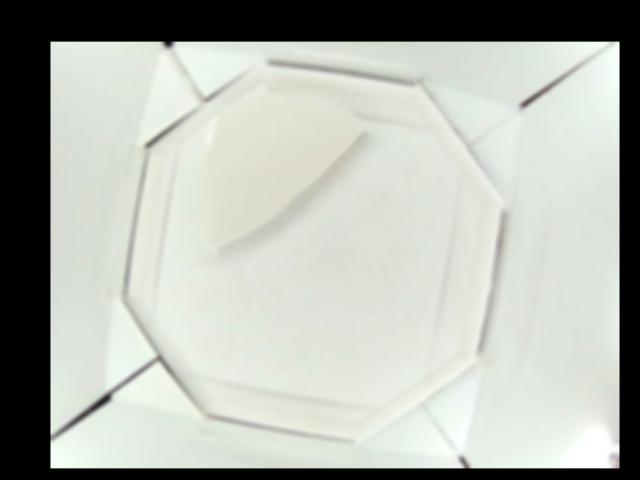China: (193, 86, 363, 250)
